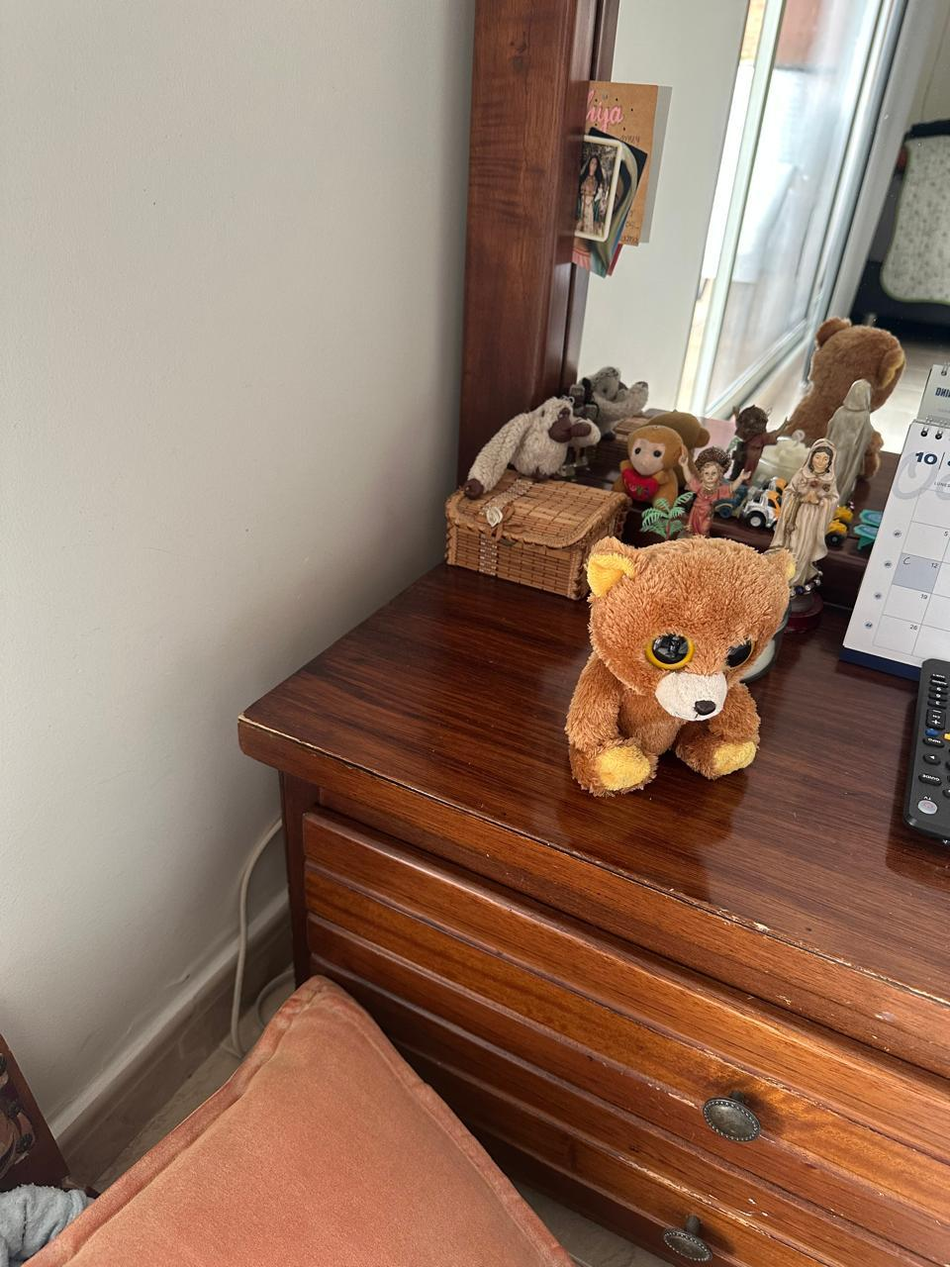peluche_sebastian: (557, 530, 802, 804)
